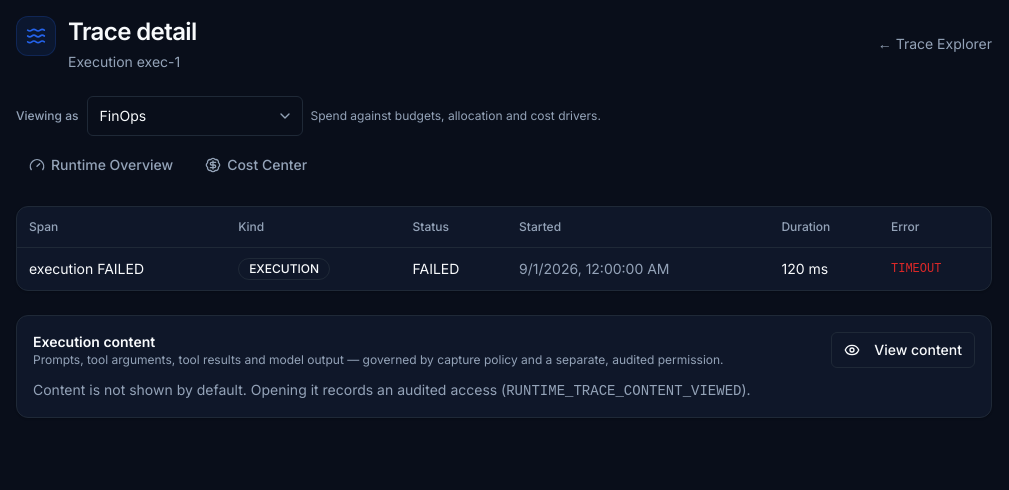
Test: content governance (§4.3) › AC-07 — DISABLED capture reads truthfully
Click the button "View content" at [903, 350], box [831,332,975,368]
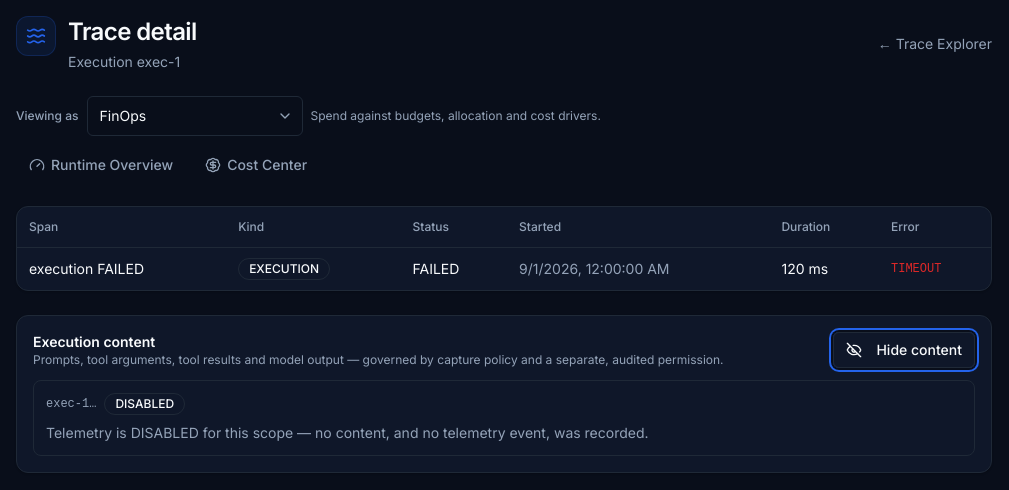
Now the text "Telemetry is DISABLED for this scope" is shown, box [46,424,648,440]
